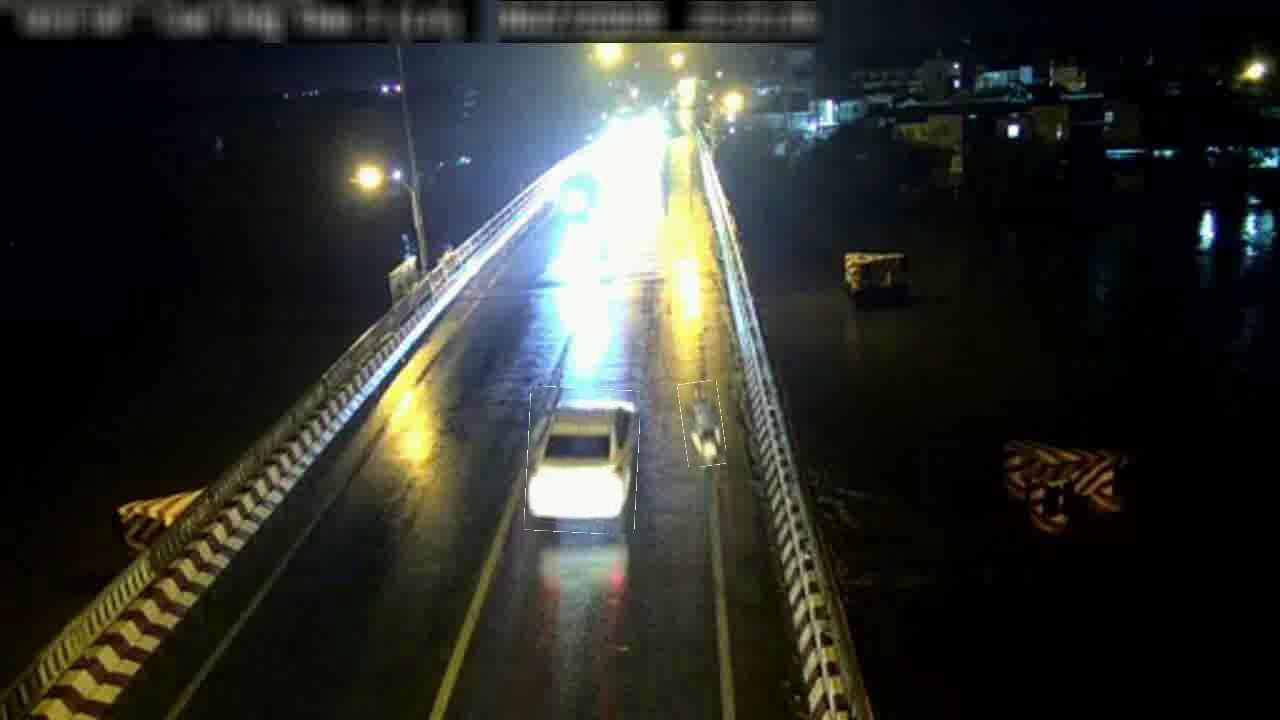container: (526, 388, 640, 534)
motorbike: (680, 381, 725, 467)
